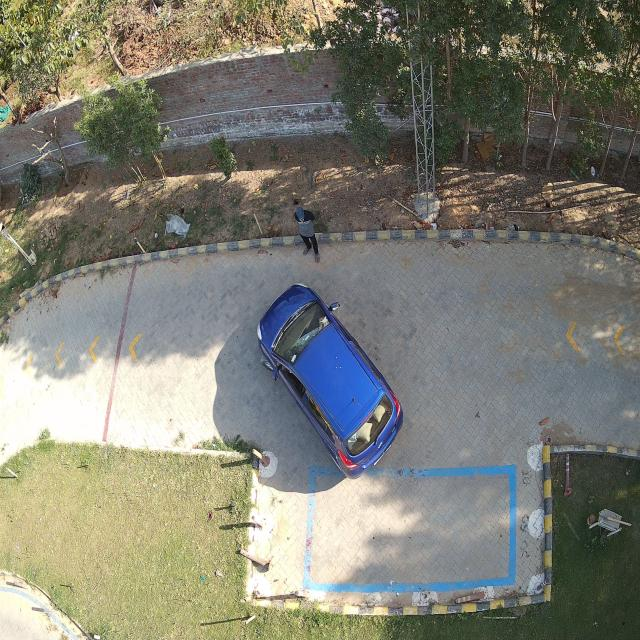car: (256, 280, 405, 480)
